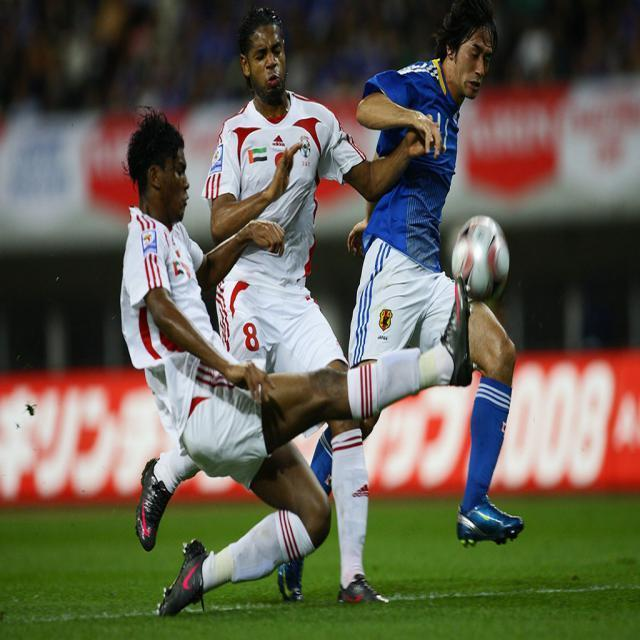football: (423, 215, 517, 303)
